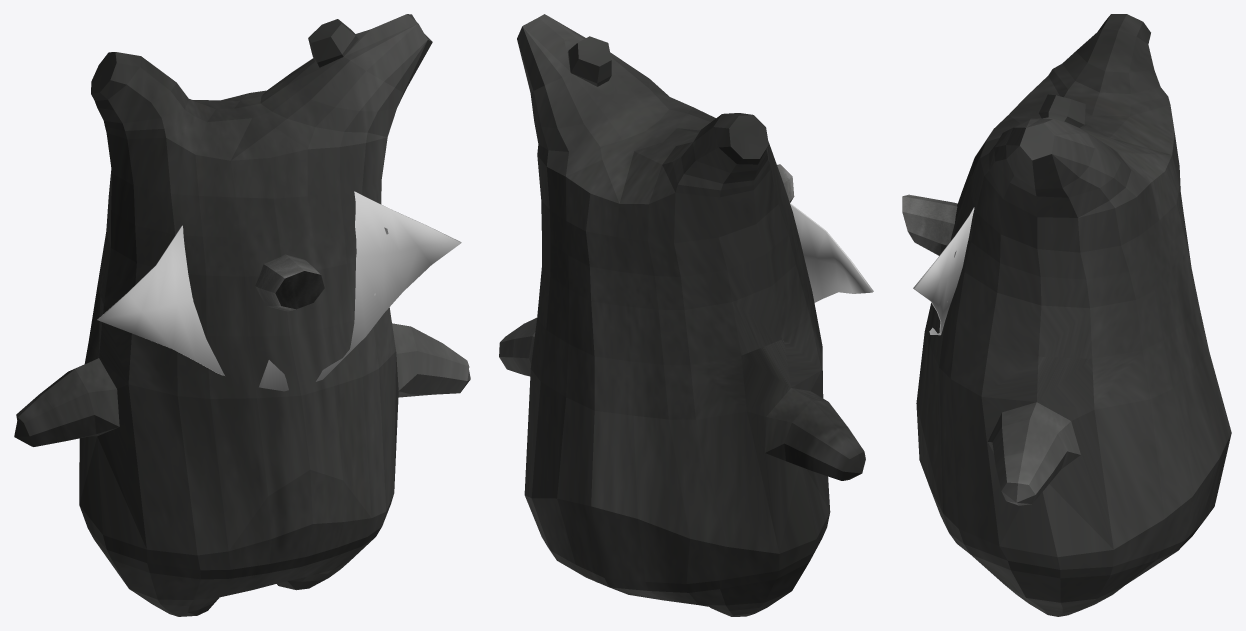
Rendered from frame_0108.obj.
3 renders of one model, left to right at view 1: azimuth 30°, elevation 25°; view 2: azimuth 150°, elevation 25°; view 3: azimuth 270°, elevation 25°, orthographic. The views are drawn at different scales.
Visible parts, largest first — view 1: korok, leaf, nose; view 2: korok, leaf; view 3: korok, leaf, nose.
Boxes of the visible parts, x1=… form: korok: x1=14, y1=14, x2=470, y2=616; leaf: x1=97, y1=191, x2=461, y2=391; nose: x1=255, y1=254, x2=324, y2=311; korok: x1=499, y1=14, x2=865, y2=616; leaf: x1=790, y1=203, x2=873, y2=302; korok: x1=916, y1=14, x2=1231, y2=616; leaf: x1=913, y1=207, x2=974, y2=335; nose: x1=902, y1=194, x2=957, y2=255.
Bounding box in the file's own units: 1.7 × 2.19 × 1.22.
